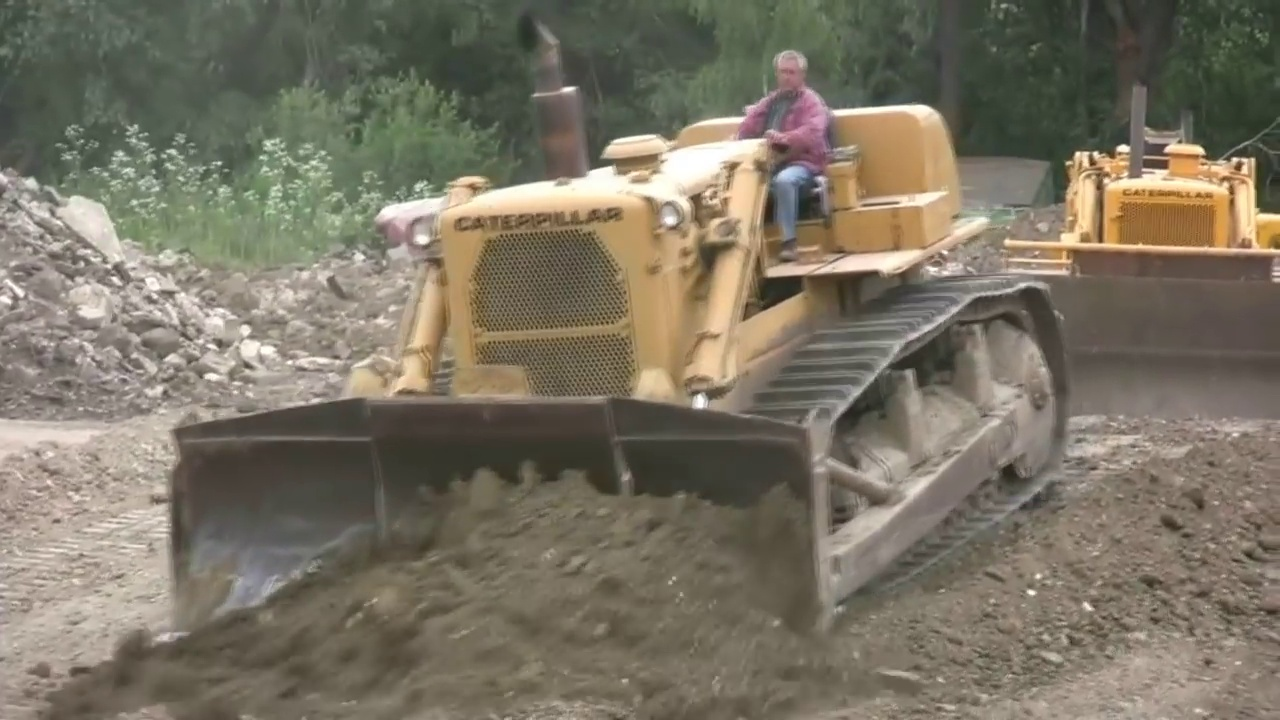bulldozer: (165, 104, 1072, 668), (1007, 86, 1280, 382)
person: (742, 48, 835, 259)
